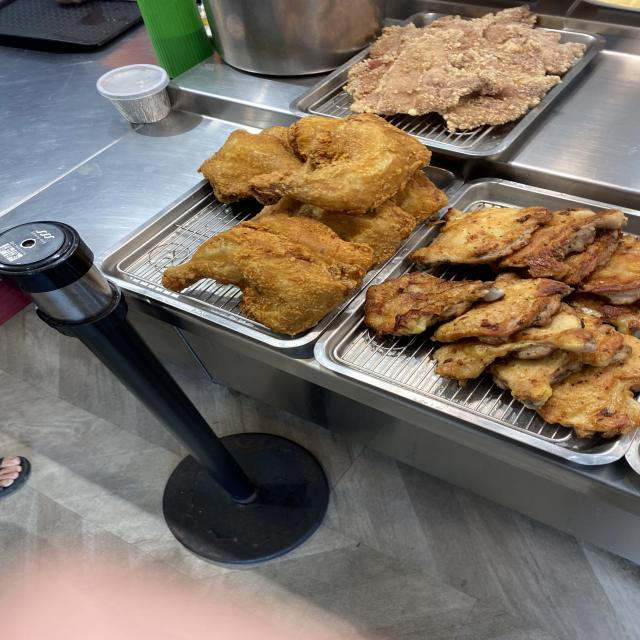Chicken Leg Steak: (472, 220, 629, 397)
